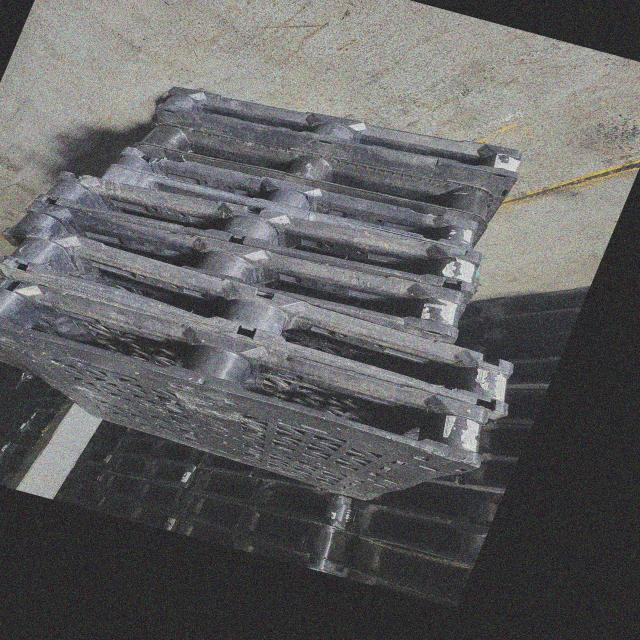igps: (0, 278, 495, 507), (0, 216, 521, 433), (11, 198, 476, 348), (26, 170, 491, 302), (94, 137, 492, 255), (130, 105, 507, 228), (150, 81, 528, 186)
